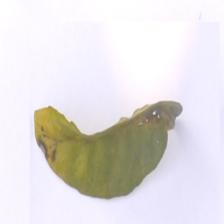greening: (21, 96, 186, 203)
